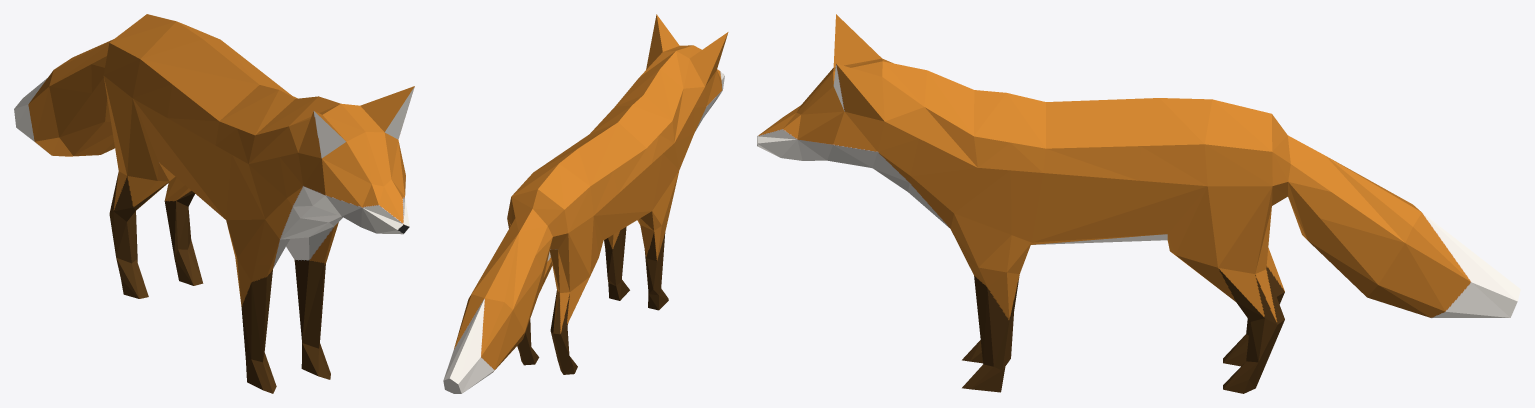
Rendered from Fox.gltf.
3 renders of one model, left to right at view 1: azimuth 30°, elevation 25°; view 2: azimuth 150°, elevation 25°; view 3: azimuth 270°, elevation 25°, orthographic. The views are drawn at different scales.
Parts seen in each view (by area): view 1: fox; view 2: fox; view 3: fox.
Part boxes in pixels (x1,y1,x2,y2): fox: (14,14,414,393); fox: (443,14,728,393); fox: (757,14,1520,393).
Size of the model in its own units: 2.52 by 7.98 by 16.4.
1 material, 1 textured.
